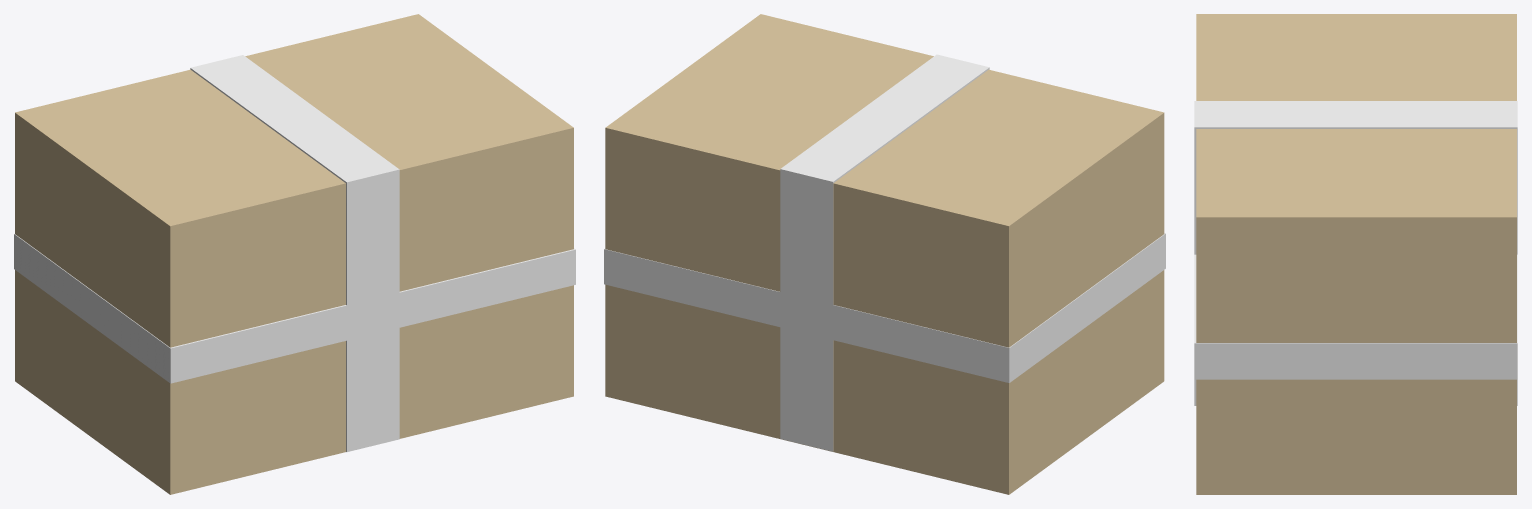
3 views of the same model, side by side, from view 1: azimuth 30°, elevation 25°; view 2: azimuth 150°, elevation 25°; view 3: azimuth 270°, elevation 25° (orthographic). The views are drawn at different scales.
Visible parts, largest first — view 1: Box66787332, Box66787336, Box66787335; view 2: Box66787332, Box66787336, Box66787335; view 3: Box66787332, Box66787335, Box66787336.
Boxes of the visible parts, x1,y1,x2,y2 form: Box66787332: [15, 14, 573, 494]; Box66787336: [190, 55, 399, 451]; Box66787335: [14, 233, 575, 383]; Box66787332: [605, 14, 1164, 494]; Box66787336: [780, 54, 989, 451]; Box66787335: [604, 233, 1165, 382]; Box66787332: [1196, 14, 1516, 494]; Box66787335: [1194, 254, 1517, 379]; Box66787336: [1194, 101, 1517, 405].
Size of the model in its own units: 0.2955 by 0.1883 by 0.1977.
